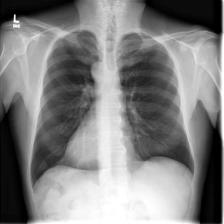normal: (27, 24, 199, 189)
